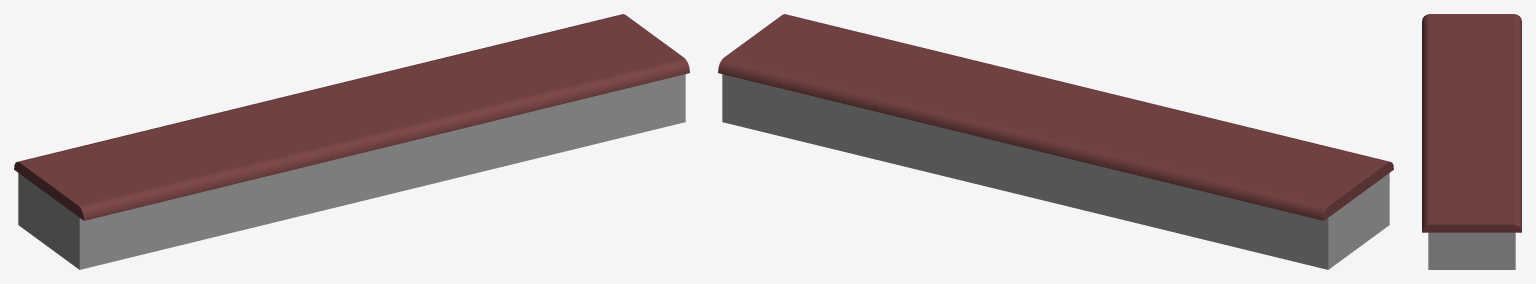
Rendered from counter.fbx.
3 views of the same model, side by side, from view 1: azimuth 30°, elevation 25°; view 2: azimuth 150°, elevation 25°; view 3: azimuth 270°, elevation 25° (orthographic). The views are drawn at different scales.
Parts seen in each view (by area): view 1: pCube1; view 2: pCube1; view 3: pCube1.
Boxes of the visible parts, left/top/right/bottom form: pCube1: left=14, top=14, right=689, bottom=269; pCube1: left=718, top=14, right=1393, bottom=269; pCube1: left=1422, top=14, right=1521, bottom=269.
Bounding box in the file's own units: 10 × 1 × 2.
